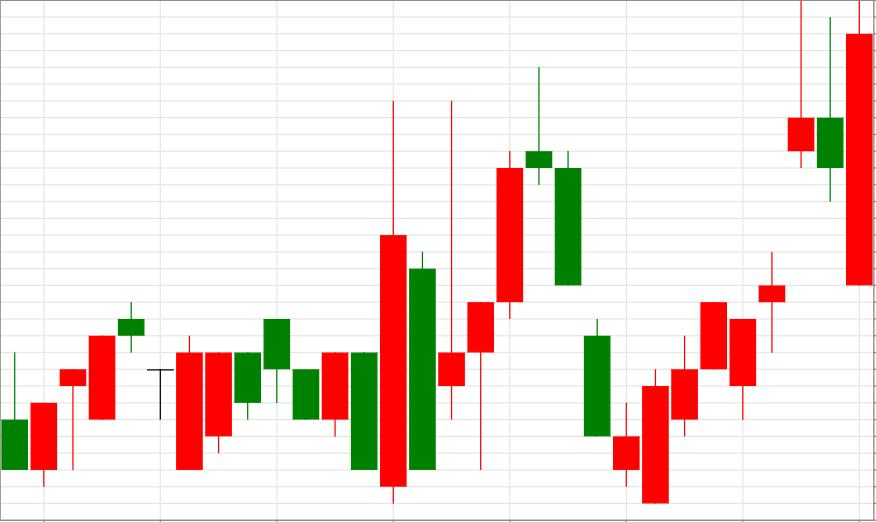evening_star_fall: (380, 66, 581, 505)
shooting_star_fall: (613, 2, 814, 503)
